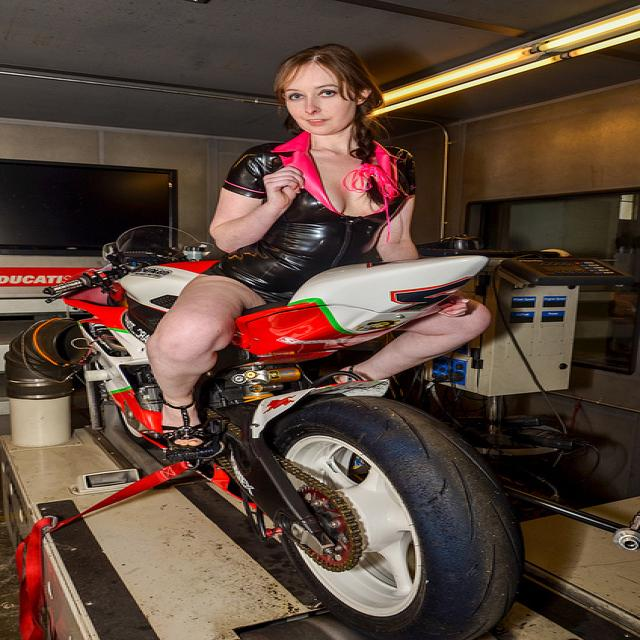motor: (50, 229, 532, 628)
